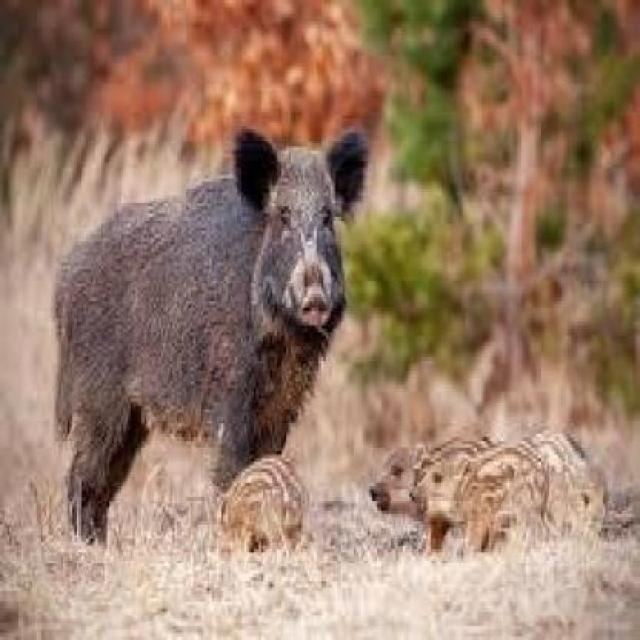wildboar: (38, 120, 374, 554), (407, 424, 558, 553), (366, 423, 496, 551), (209, 445, 311, 563), (526, 422, 617, 544)
